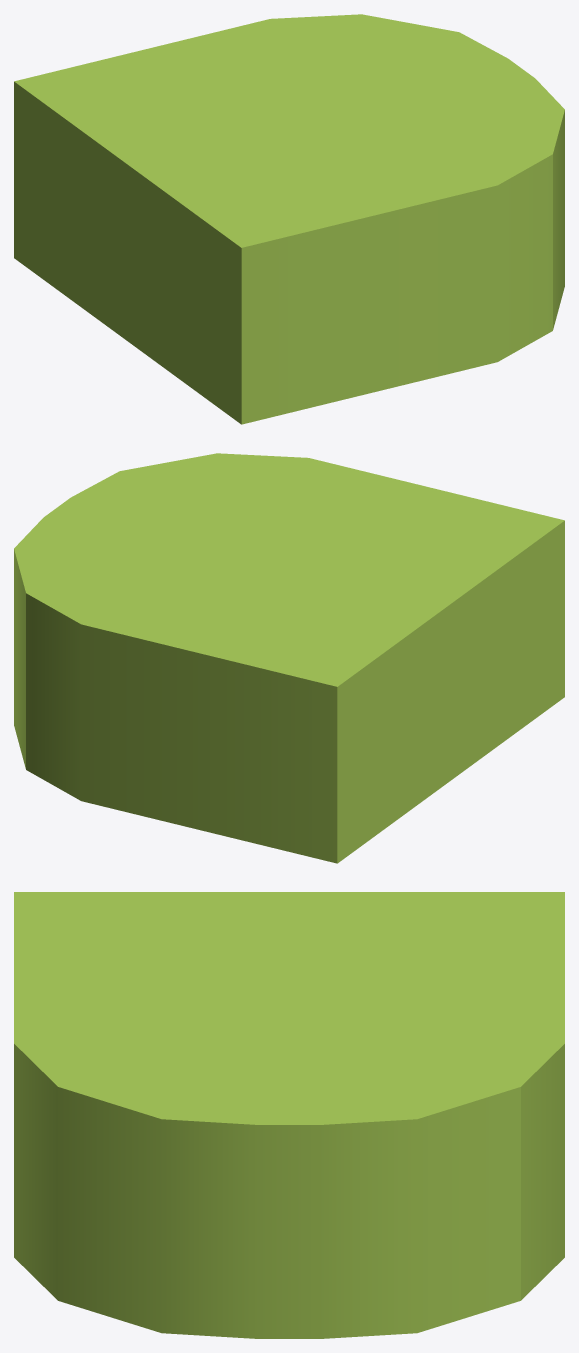
Rendered from RoundedEndPath.fbx.
The picture shows the model from 3 angles, top to bottom: view 1: azimuth 30°, elevation 25°; view 2: azimuth 150°, elevation 25°; view 3: azimuth 270°, elevation 25°; orthographic projection. The views are drawn at different scales.
Parts seen in each view (by area): view 1: MoreRoundedEnd001; view 2: MoreRoundedEnd001; view 3: MoreRoundedEnd001.
Boxes of the visible parts, x1,y1,x2,y2 form: MoreRoundedEnd001: [14, 14, 564, 424]; MoreRoundedEnd001: [14, 453, 564, 863]; MoreRoundedEnd001: [14, 892, 564, 1338].
Bounding box in the file's own units: 277 × 118 × 276.
